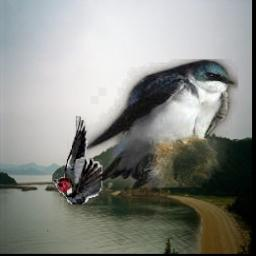Swallow: (83, 59, 239, 188)
Woodpecker: (53, 116, 102, 204)
